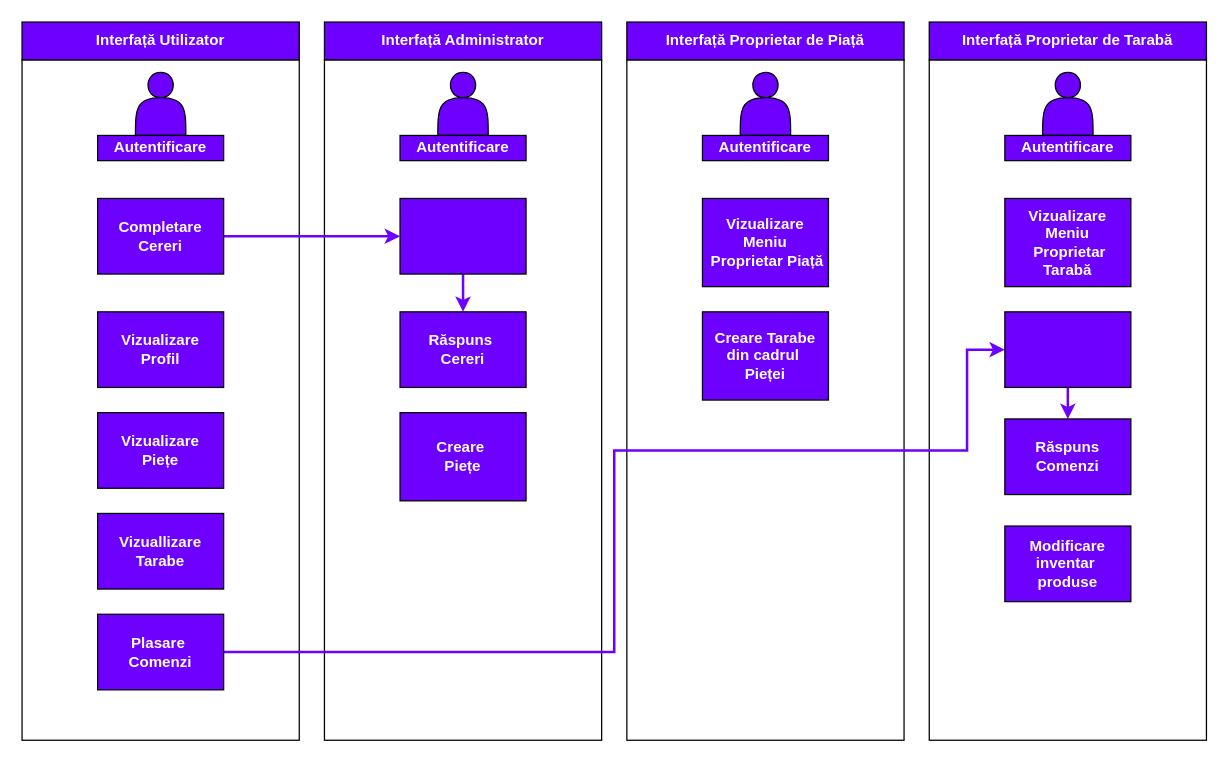
The diagram is 1229 pixels wide and 762 high, and some of its shapes have lost their labels. The shapes that lost their labels are listed below. From the top down, each one's centre as x and y in pixels, then its label:
[462,235]: Vizualizare Cereri
[1067,349]: Vizualizare Comenzi
